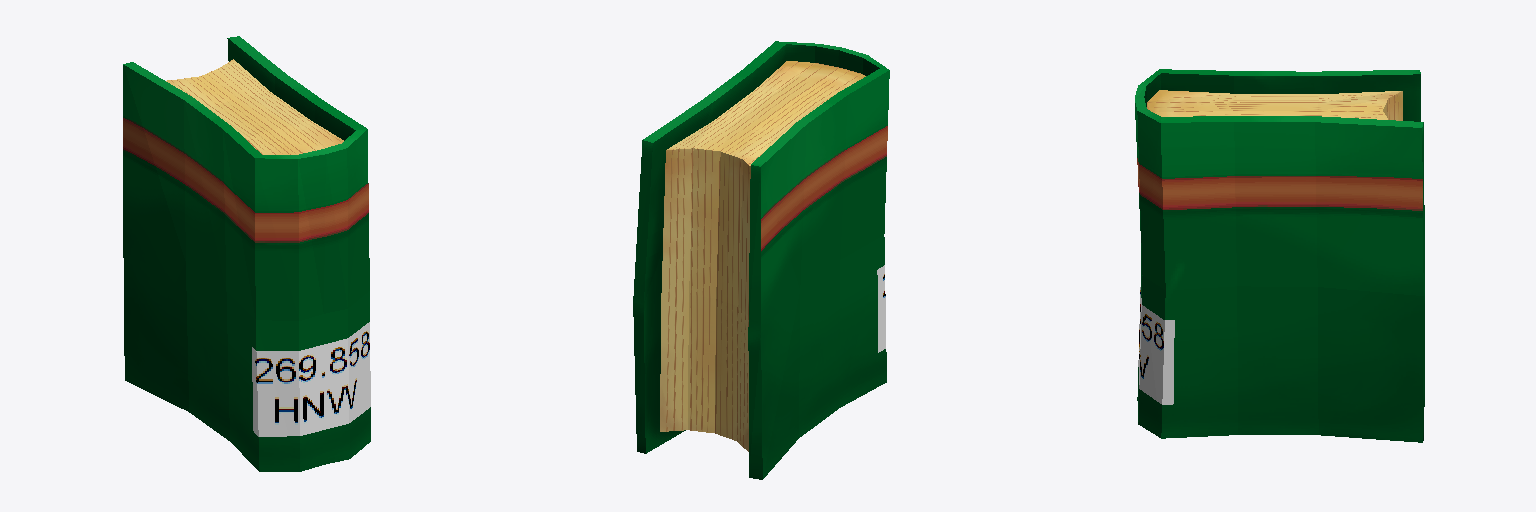
3 renders of one model, left to right at view 1: azimuth 30°, elevation 25°; view 2: azimuth 150°, elevation 25°; view 3: azimuth 270°, elevation 25°, orthographic.
Parts seen in each view (by area): view 1: Cover.001, Pages.002; view 2: Cover.001, Pages.002; view 3: Cover.001, Pages.002.
Boxes of the visible parts, x1=… form: Cover.001: x1=123, y1=36, x2=370, y2=471; Pages.002: x1=166, y1=59, x2=343, y2=154; Cover.001: x1=633, y1=41, x2=889, y2=479; Pages.002: x1=660, y1=61, x2=865, y2=451; Cover.001: x1=1135, y1=69, x2=1424, y2=442; Pages.002: x1=1147, y1=90, x2=1402, y2=120.
Bounding box in the file's own units: 2.93 × 7.05 × 5.85.
2 materials, 2 textured.